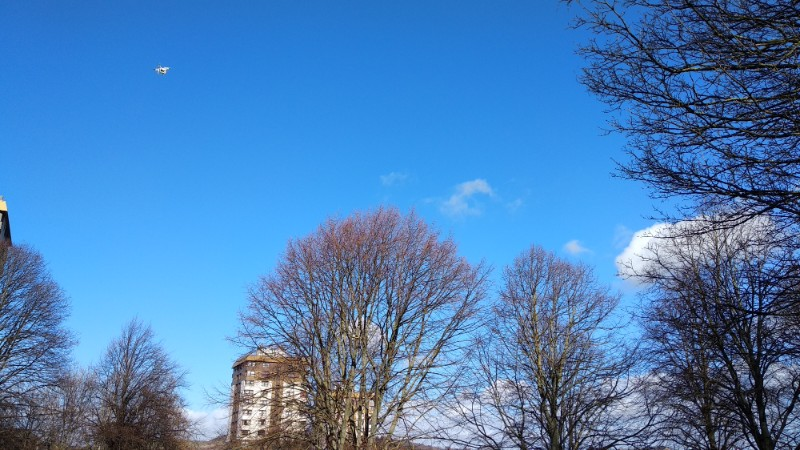drone: (154, 64, 171, 75)
